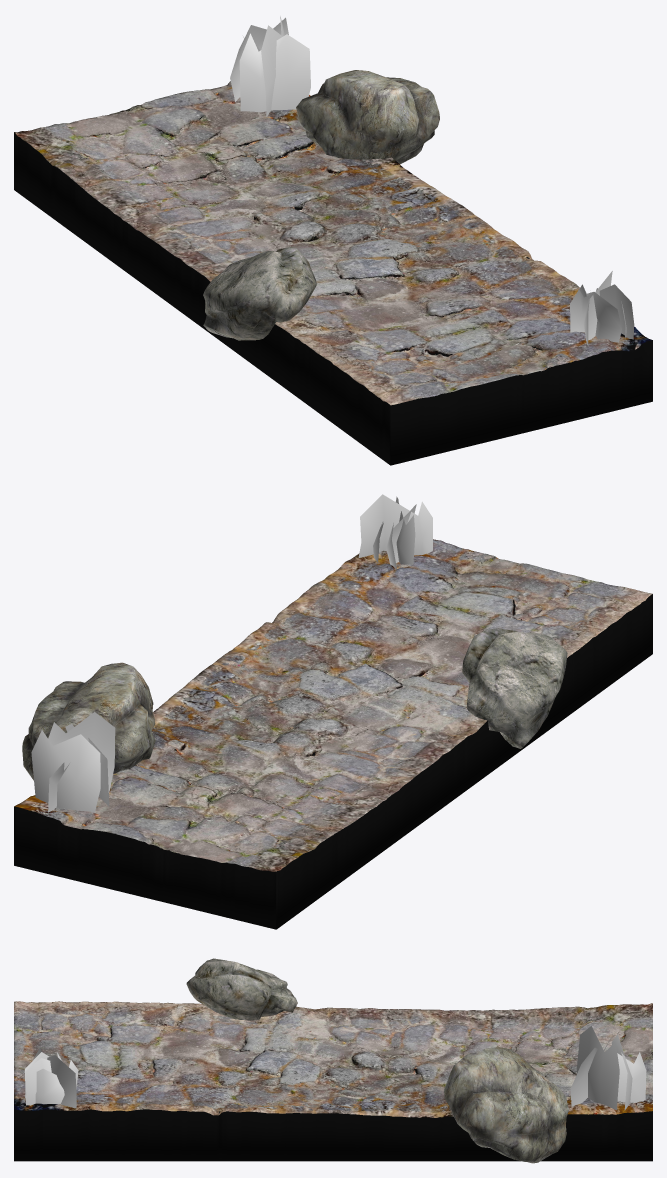
The model's file is via-romana.glb.
The picture shows the model from 3 angles, top to bottom: view 1: azimuth 30°, elevation 25°; view 2: azimuth 150°, elevation 25°; view 3: azimuth 270°, elevation 25°; orthographic projection. The views are drawn at different scales.
Parts seen in each view (by area): view 1: via, Rock2, Rock1, GrassPatch02, GrassPatch01; view 2: via, Rock1, Rock2, GrassPatch02, GrassPatch01; view 3: via, Rock2, Rock1, GrassPatch02, GrassPatch01.
Part boxes in pixels (x1,y1,x2,y2): via: (14, 81, 652, 465); Rock2: (296, 70, 439, 164); Rock1: (203, 247, 316, 340); GrassPatch02: (230, 16, 310, 116); GrassPatch01: (570, 271, 634, 345); via: (14, 539, 652, 929); Rock1: (462, 628, 567, 748); Rock2: (22, 662, 155, 780); GrassPatch02: (31, 712, 115, 812); GrassPatch01: (358, 494, 432, 569); via: (14, 1001, 652, 1161); Rock2: (444, 1047, 568, 1163); Rock1: (186, 958, 297, 1020); GrassPatch02: (570, 1026, 646, 1110); GrassPatch01: (25, 1047, 78, 1108).
Size of the model in its own units: 5.22 by 1.86 by 9.2.
3 materials, 2 textured.
